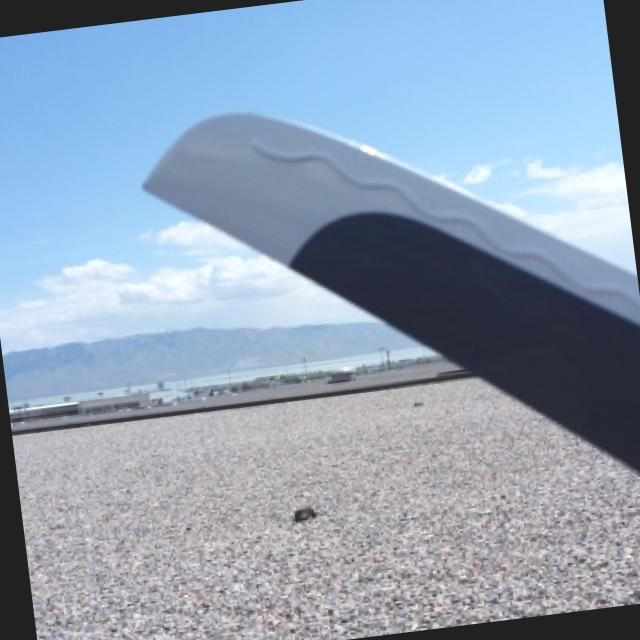healthy: (148, 113, 640, 469)
